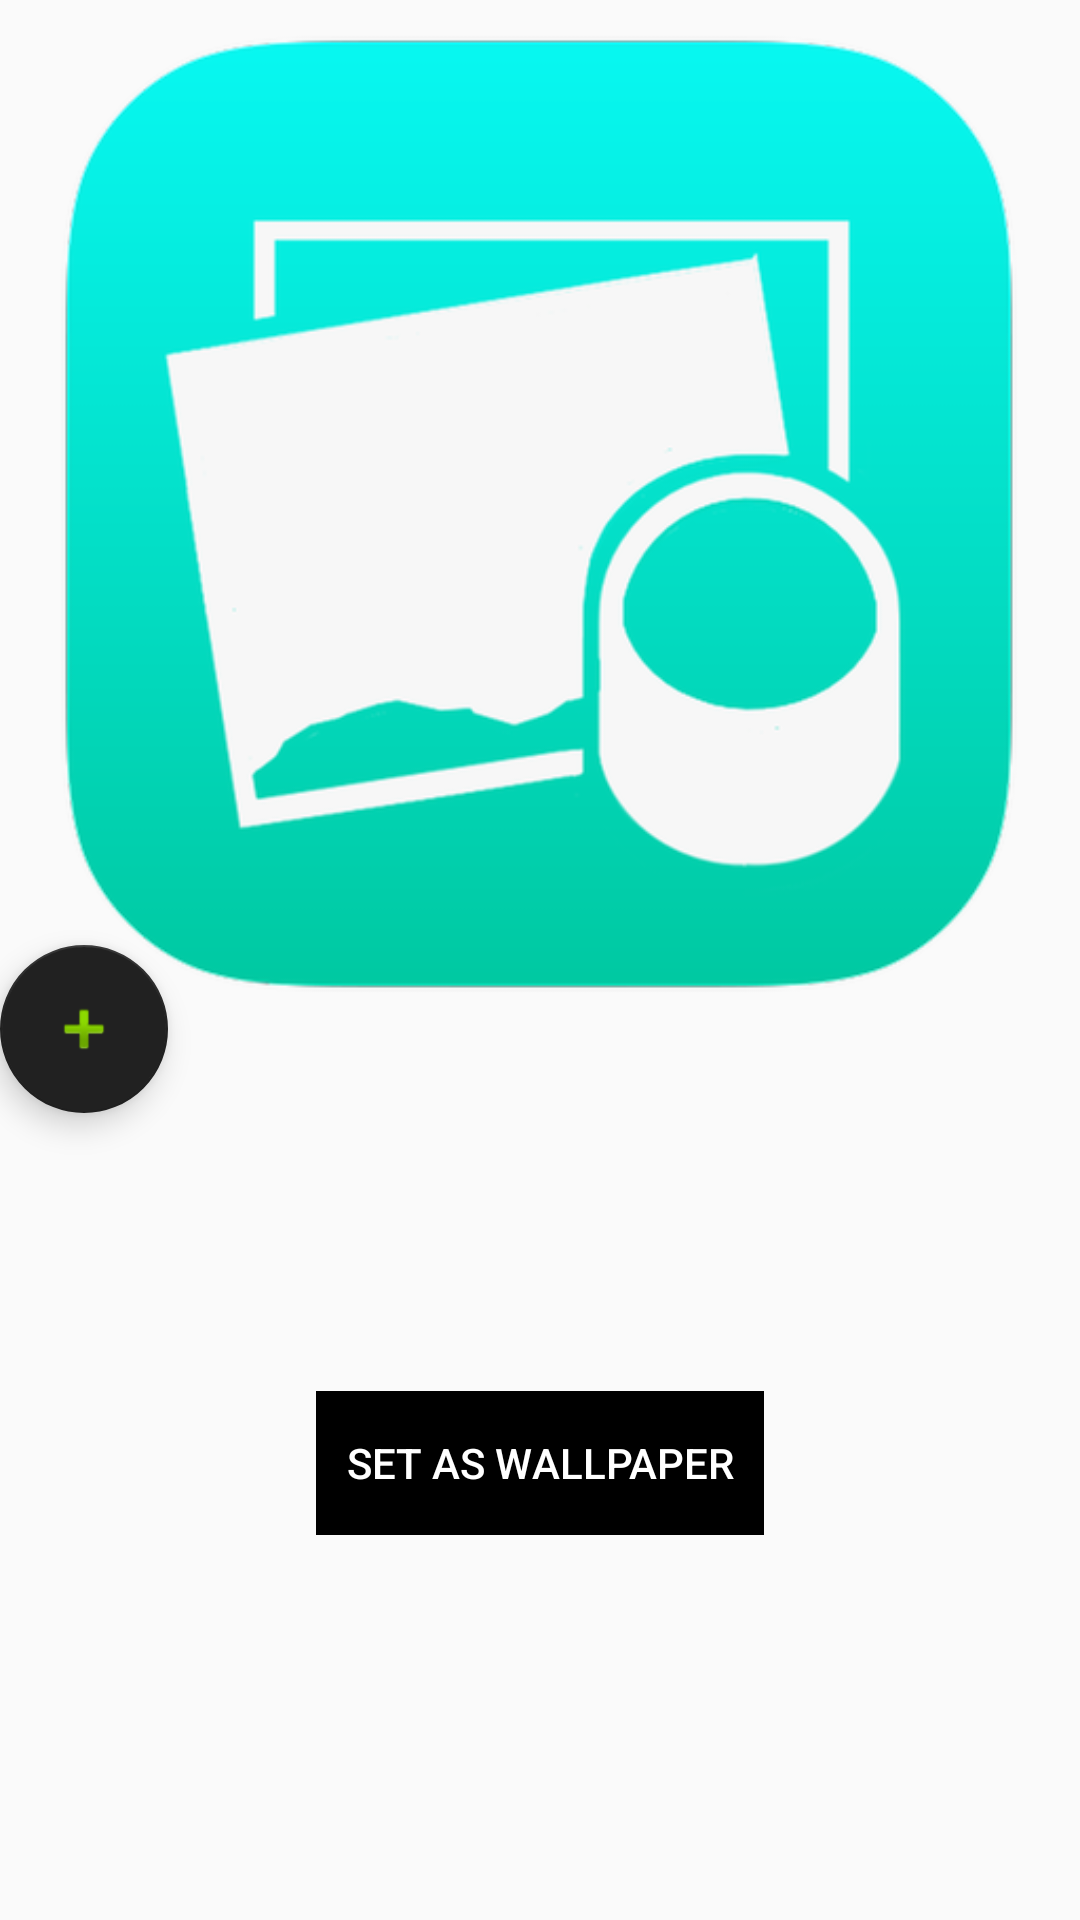

Icon bounding boxes for this 1080w x 1920h phone screenshot, format {"x1": x1, "y1": y1, "x2": x2, "y2": y2}:
add: {"x1": 0, "y1": 945, "x2": 168, "y2": 1113}
